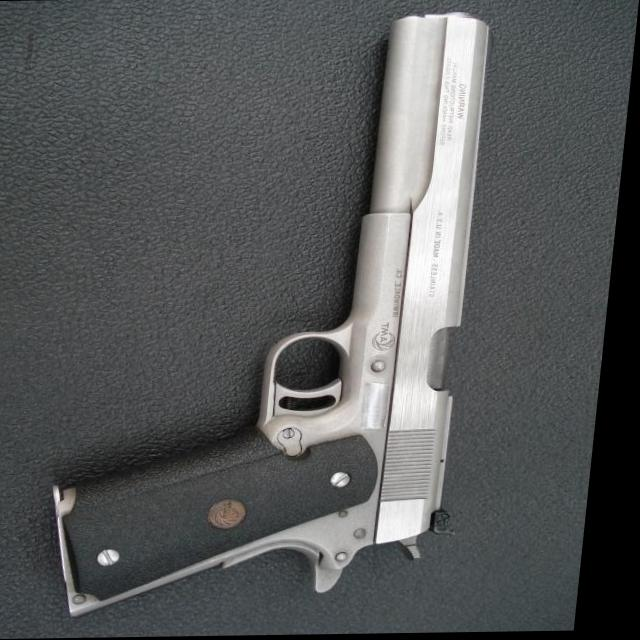handgun: (55, 13, 517, 614)
